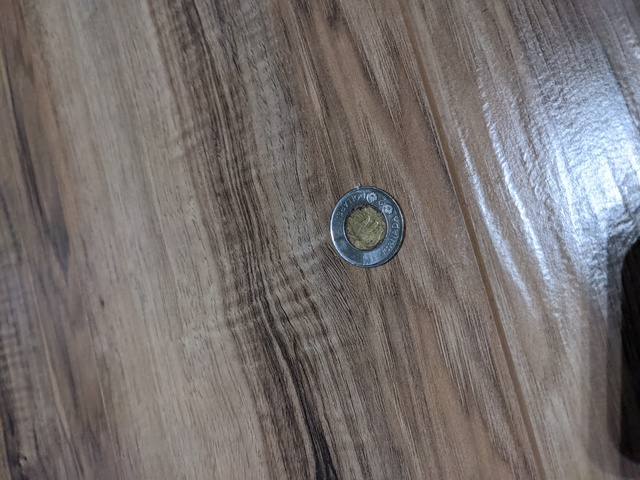twonie: (315, 176, 416, 279)
